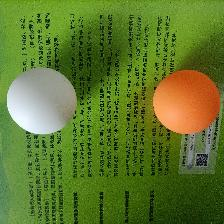WhiteBall: (6, 67, 76, 134)
YellowBall: (152, 69, 219, 135)
